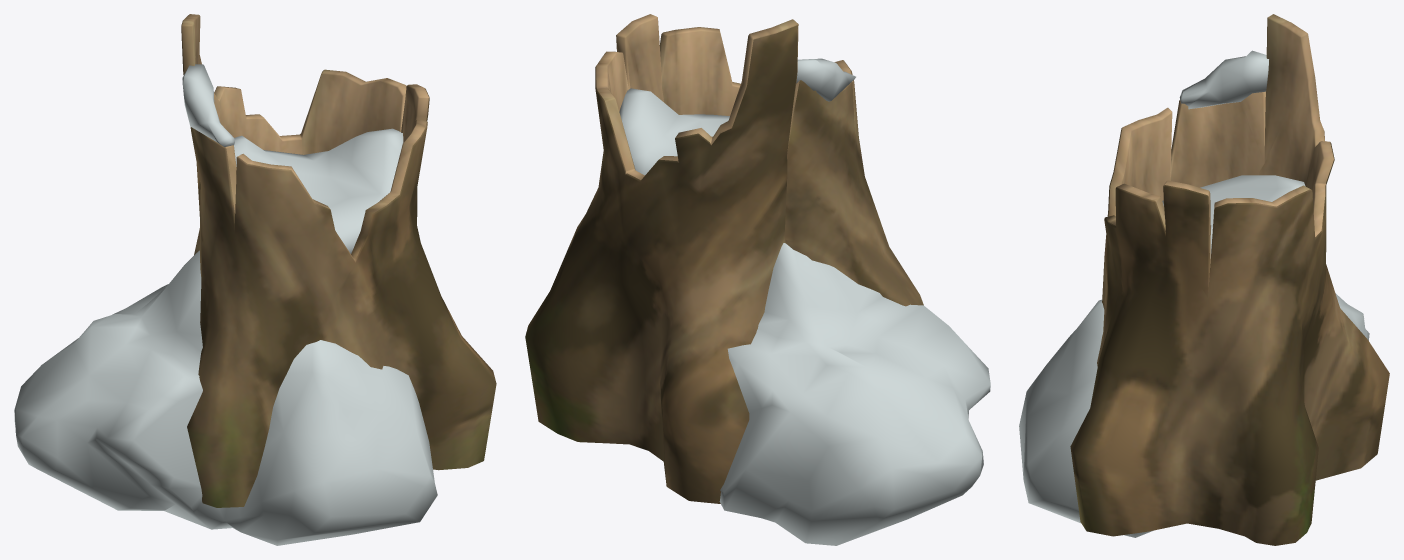
File: P_OakStump1_SnowCover.obj
3 views of the same model, side by side, from view 1: azimuth 30°, elevation 25°; view 2: azimuth 150°, elevation 25°; view 3: azimuth 270°, elevation 25° (orthographic). The views are drawn at different scales.
Size of the model in its own units: 3.45 by 3.71 by 2.69.
